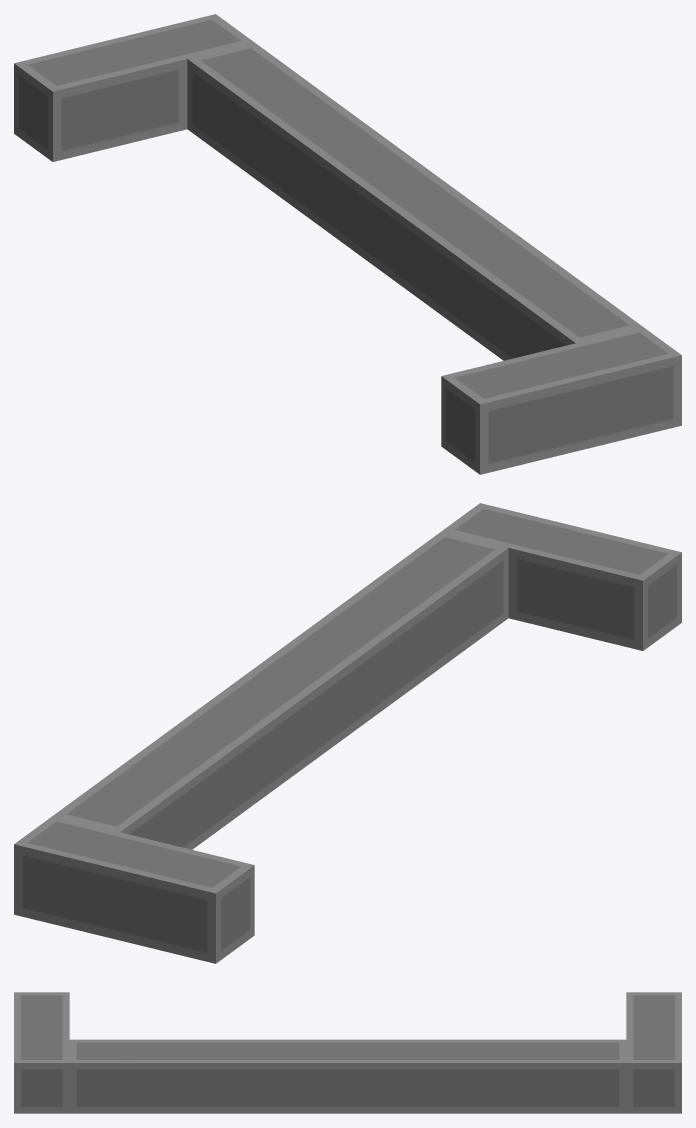
File: U-Object_mesh_outlineUV.fbx
3 views of the same model, one above another, from view 1: azimuth 30°, elevation 25°; view 2: azimuth 150°, elevation 25°; view 3: azimuth 270°, elevation 25° (orthographic). The views are drawn at different scales.
Visible parts, largest first — view 1: U-Object_Mesh_outlineUV; view 2: U-Object_Mesh_outlineUV; view 3: U-Object_Mesh_outlineUV.
Part boxes in pixels (x1=…): U-Object_Mesh_outlineUV: x1=14, y1=14, x2=681, y2=474; U-Object_Mesh_outlineUV: x1=14, y1=503, x2=681, y2=963; U-Object_Mesh_outlineUV: x1=14, y1=992, x2=681, y2=1113.
Bounding box in the file's own units: 300 × 100 × 1200.
